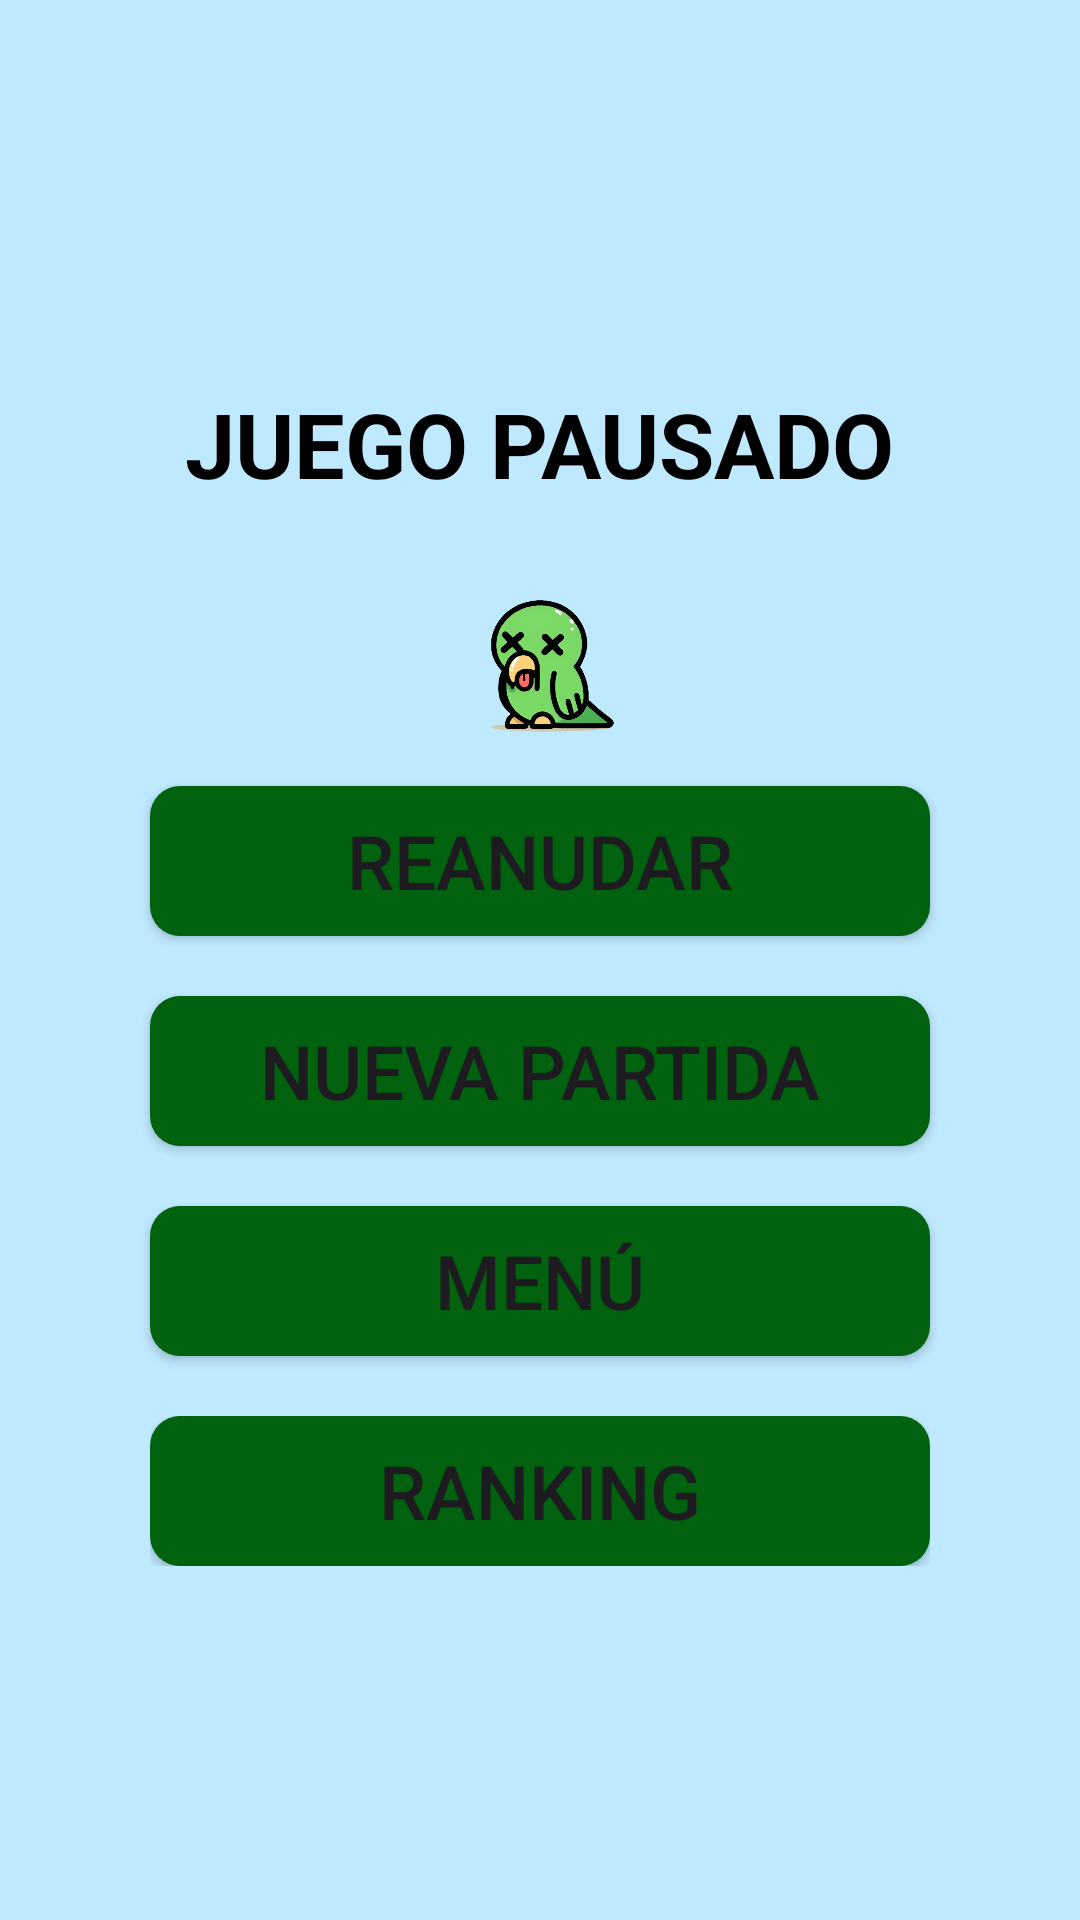

Locate icon controls on the screen. Image size 1080×1920, boxes as region(x1, y1, x2, y2).
cotorra dead: region(491, 600, 614, 732)
